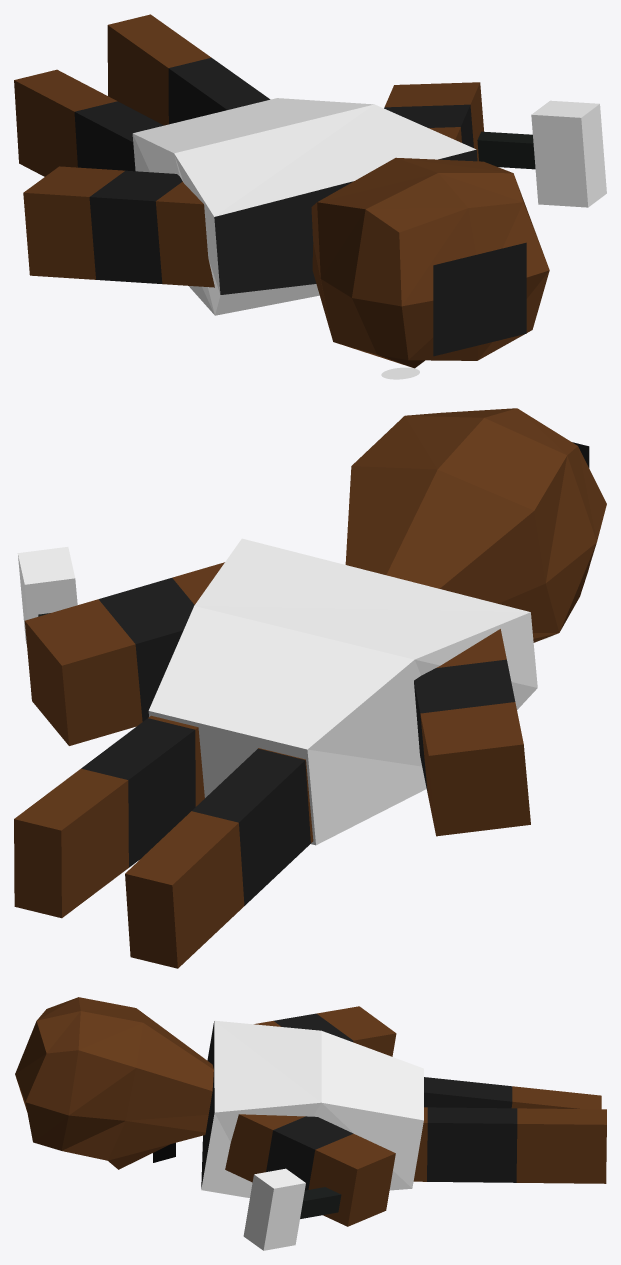
Rendered from slave3d.obj.
3 renders of one model, top to bottom at view 1: azimuth 30°, elevation 25°; view 2: azimuth 150°, elevation 25°; view 3: azimuth 270°, elevation 25°, orthographic. The views are drawn at different scales.
Visible parts, largest first — view 1: Cube.001, Cube, Cube.003, Cube.005, Cube.004, Plane.002, Cube.008, Cube.002, Cube.007; view 2: Cube.001, Cube, Cube.004, Cube.005, Cube.002, Cube.003, Cube.008; view 3: Cube, Cube.001, Cube.005, Cube.002, Cube.004, Cube.008, Cube.003, Cube.007.
Part boxes in pixels (x1,y1,x2,y2): Cube.001: [132, 98, 477, 315]; Cube: [311, 157, 549, 368]; Cube.003: [23, 166, 214, 287]; Cube.005: [107, 14, 270, 125]; Cube.004: [14, 69, 163, 176]; Plane.002: [433, 242, 526, 356]; Cube.008: [531, 100, 606, 207]; Cube.002: [384, 82, 483, 161]; Cube.007: [477, 131, 535, 169]; Cube.001: [148, 538, 537, 845]; Cube: [345, 408, 606, 642]; Cube.004: [125, 748, 313, 968]; Cube.005: [14, 715, 204, 918]; Cube.002: [24, 562, 224, 745]; Cube.003: [414, 629, 530, 836]; Cube.008: [18, 547, 77, 645]; Cube: [15, 997, 213, 1169]; Cube.001: [201, 1020, 423, 1197]; Cube.005: [413, 1107, 606, 1183]; Cube.002: [225, 1114, 395, 1226]; Cube.004: [424, 1077, 601, 1109]; Cube.008: [243, 1168, 305, 1250]; Cube.003: [254, 1006, 396, 1056]; Cube.007: [300, 1187, 341, 1218].
Size of the model in its own units: 4.16 by 1.75 by 5.6.
